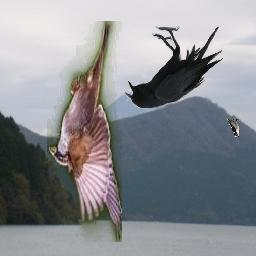Crow: (125, 26, 224, 109)
Sparrow: (48, 22, 123, 243)
Woodpecker: (227, 119, 240, 138)
